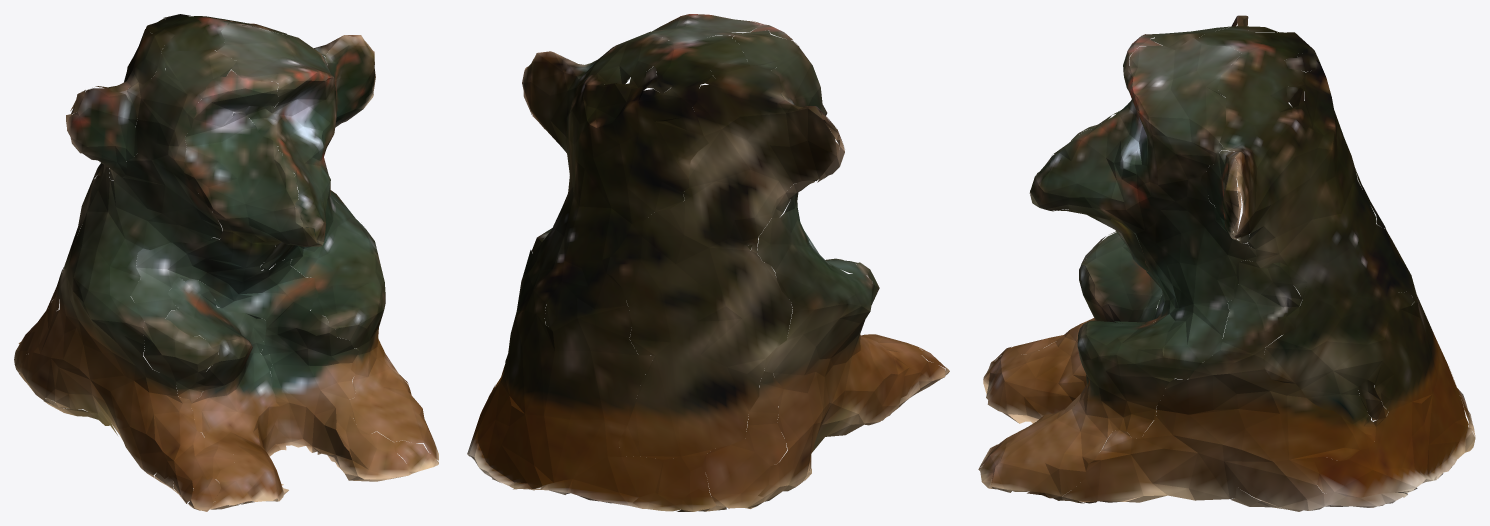
The model's file is trungus.glb.
3 renders of one model, left to right at view 1: azimuth 30°, elevation 25°; view 2: azimuth 150°, elevation 25°; view 3: azimuth 270°, elevation 25°, orthographic. The views are drawn at different scales.
Visible parts, largest first — view 1: mesh; view 2: mesh; view 3: mesh.
Boxes of the visible parts, x1,y1,x2,y2 form: mesh: (14, 14, 438, 511); mesh: (467, 14, 949, 511); mesh: (978, 15, 1475, 511).
Size of the model in its own units: 0.0811 by 0.096 by 0.1084.
Materials: 1 (1 with a texture image).
